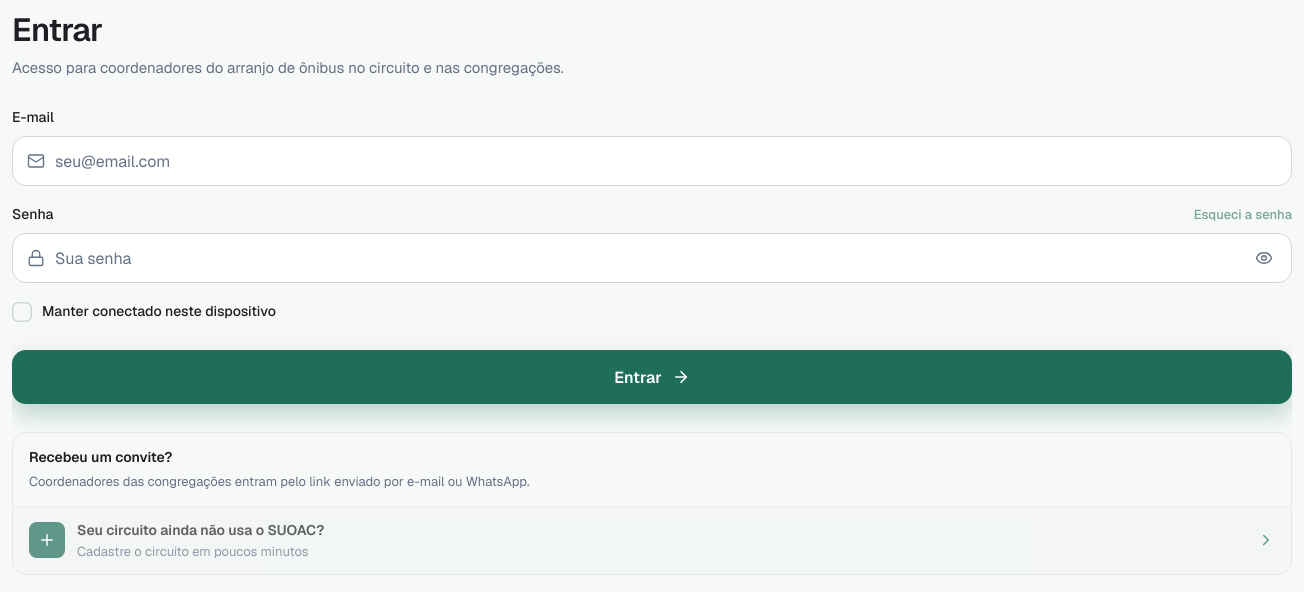
Test case: SignInForm › confirma a entrada pelo nome de quem entrou, antes de sair da tela
Type "coordenador@circuito.org" into the field labelled "E-mail".
click(669, 161); type("coordenador@circuito.org")  # box [55,137,1283,185]
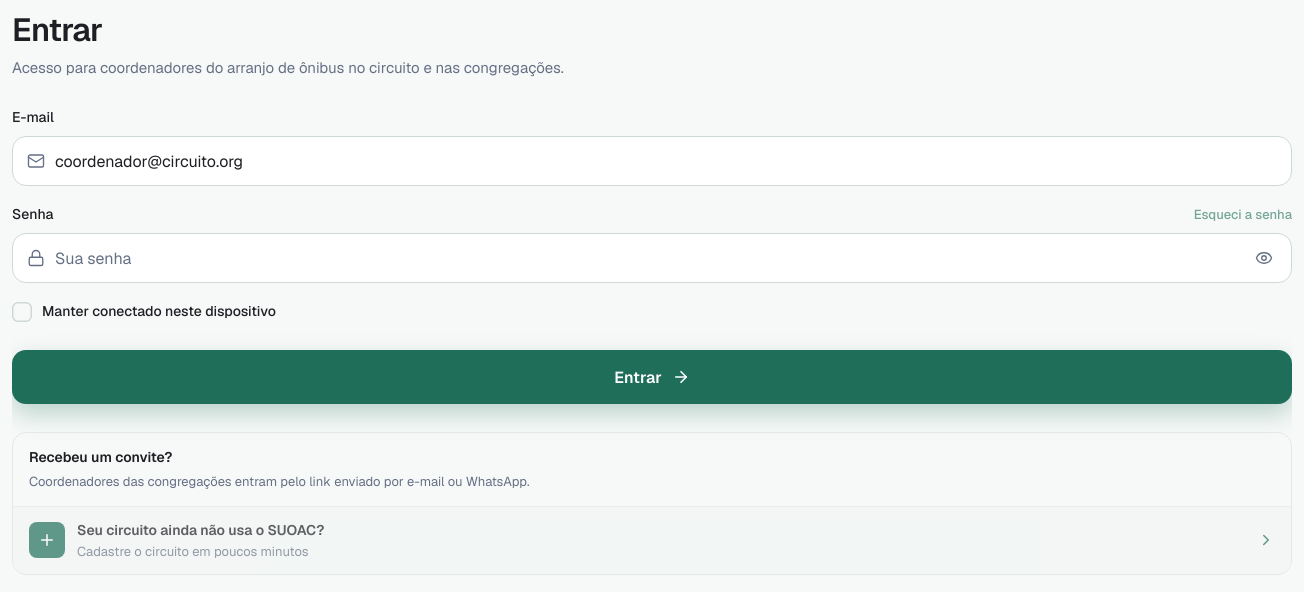
Type "senha-correta" into the password field labelled "Senha".
click(645, 258); type("senha-correta")  # box [55,234,1235,282]
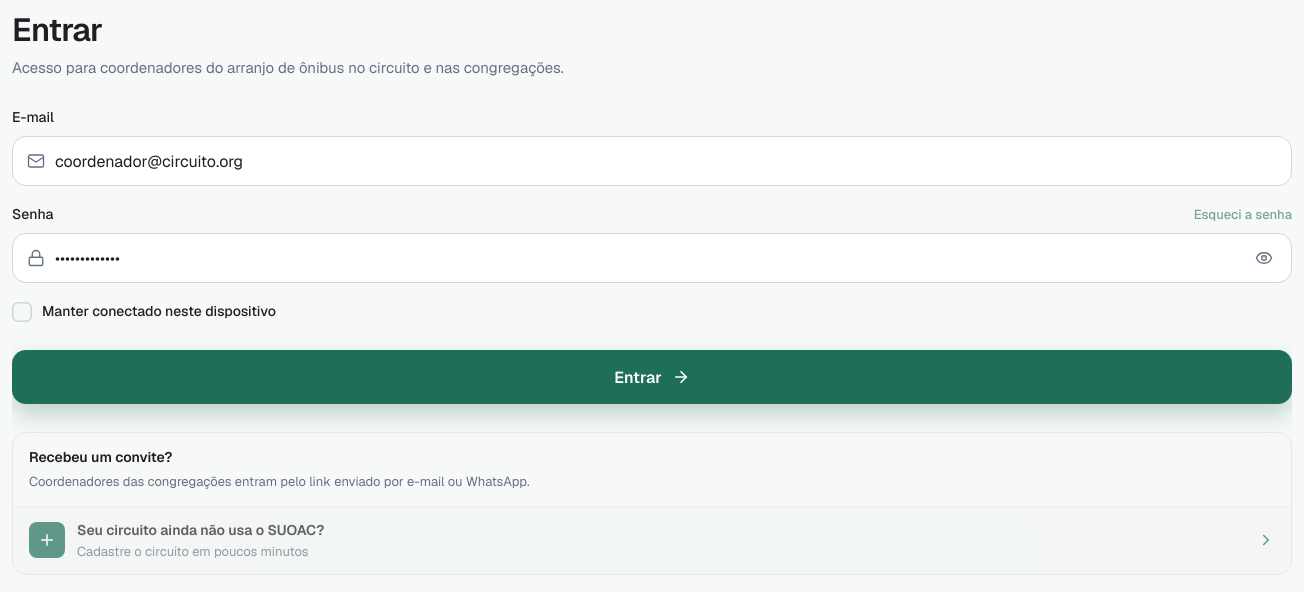
Click the button "Entrar".
click(652, 377)  # box [12,350,1292,404]
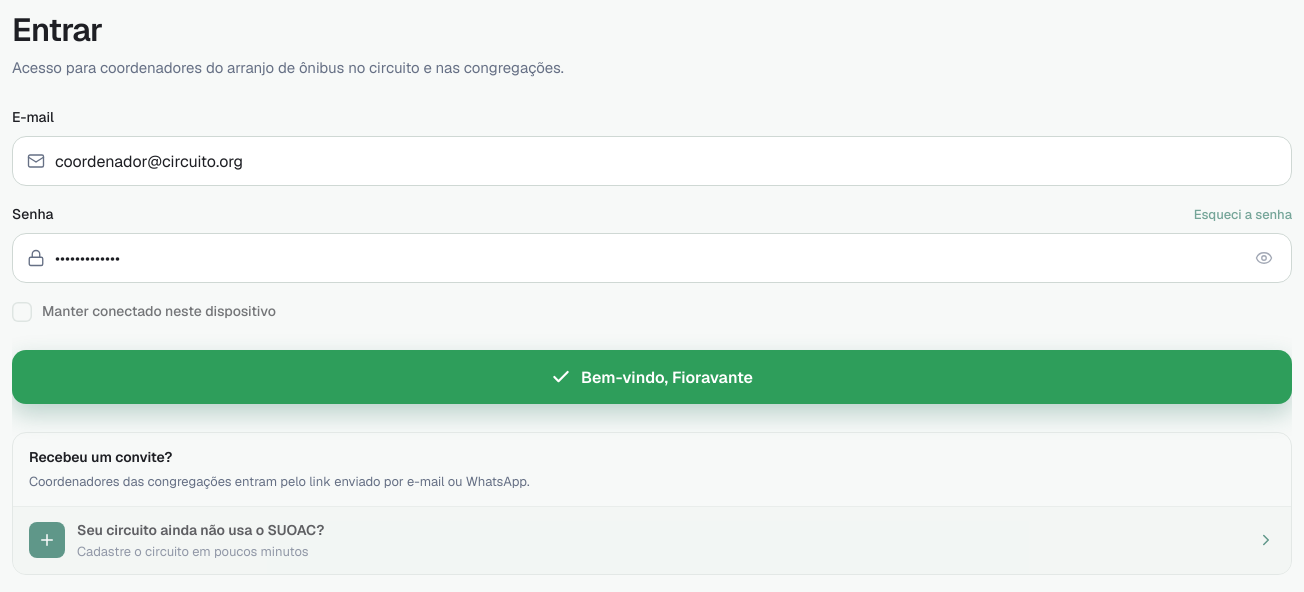
Check: the text "Bem-vindo, Fioravante" is shown, box [551,367,753,388]
